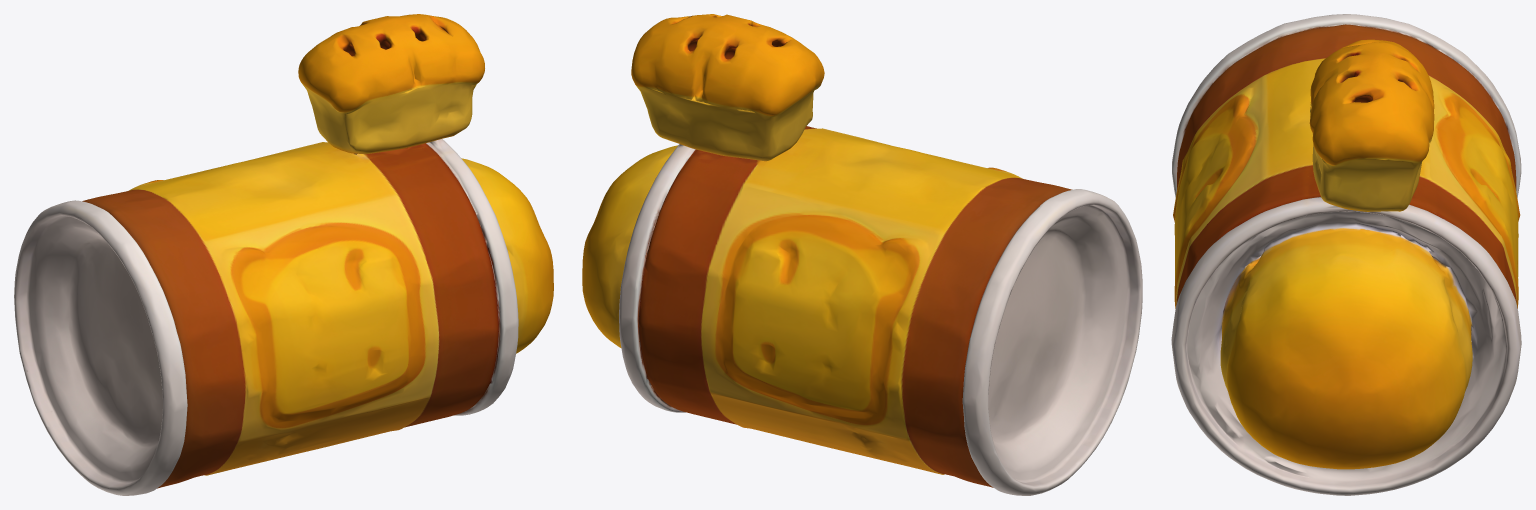
The model's file is breadcan_v2.glb.
The picture shows the model from 3 angles, left to right: view 1: azimuth 30°, elevation 25°; view 2: azimuth 150°, elevation 25°; view 3: azimuth 270°, elevation 25°; orthographic projection. The views are drawn at different scales.
Visible parts, largest first — view 1: tripo_node_a641babf-4d13-42c4-b2f5-4ab60fe4fd5b; view 2: tripo_node_a641babf-4d13-42c4-b2f5-4ab60fe4fd5b; view 3: tripo_node_a641babf-4d13-42c4-b2f5-4ab60fe4fd5b.
Boxes of the visible parts, x1=… form: tripo_node_a641babf-4d13-42c4-b2f5-4ab60fe4fd5b: x1=14, y1=14, x2=553, y2=495; tripo_node_a641babf-4d13-42c4-b2f5-4ab60fe4fd5b: x1=582, y1=14, x2=1142, y2=495; tripo_node_a641babf-4d13-42c4-b2f5-4ab60fe4fd5b: x1=1171, y1=14, x2=1521, y2=495.
Size of the model in its own units: 0.9798 by 0.7892 by 0.597.
Materials: 1 (1 with a texture image).
